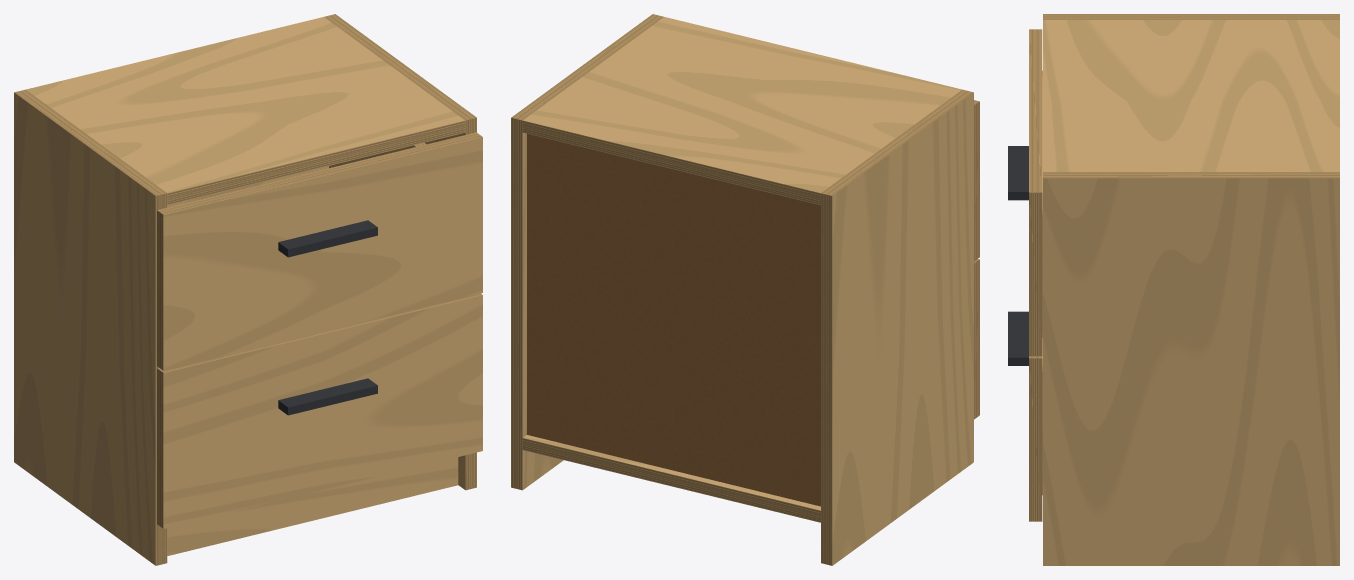
File: HIN-NST-std.glb
The picture shows the model from 3 angles, left to right: view 1: azimuth 30°, elevation 25°; view 2: azimuth 150°, elevation 25°; view 3: azimuth 270°, elevation 25°; orthographic projection. The views are drawn at different scales.
Visible parts, largest first — view 1: side-l:sheet:eyJtIjoicGx5Iiwic2lkZSI6ImZhY2UiLCJzZWVkIjoxLCJ, d1-front:sheet:eyJtIjoicGx5Iiwic2lkZSI6ImZhY2UiLCJzZWVkIjoyL, d2-front:sheet:eyJtIjoicGx5Iiwic2lkZSI6ImZhY2UiLCJzZWVkIjo2L, top:sheet:eyJtIjoicGx5Iiwic2lkZSI6ImZhY2UiLCJzZWVkIjo2LCJ2ZW, plinth:sheet:eyJtIjoicGx5Iiwic2lkZSI6ImZhY2UiLCJzZWVkIjozLCJ, top:sheet:eyJtIjoicGx5Iiwic2lkZSI6ImVkZ2UtbG9uZyIsInNlZWQiOj, pull, d2-front:sheet:eyJtIjoicGx5Iiwic2lkZSI6ImVkZ2UtbG9uZyIsInNlZ, side-r:sheet:eyJtIjoicGx5Iiwic2lkZSI6ImVkZ2UtZW5kIiwic2VlZCI, side-l:sheet:eyJtIjoicGx5Iiwic2lkZSI6ImVkZ2UtZW5kIiwic2VlZCI, side-l:sheet:eyJtIjoicGx5Iiwic2lkZSI6ImVkZ2UtbG9uZyIsInNlZWQ, d1-front:sheet:eyJtIjoicGx5Iiwic2lkZSI6ImVkZ2UtZW5kIiwic2VlZ (+3 smaller); view 2: back:sheet:eyJtIjoibWRmIiwic2lkZSI6ImZhY2UiLCJzZWVkIjo0LCJ0a, side-l:sheet:eyJtIjoicGx5Iiwic2lkZSI6ImZhY2UiLCJzZWVkIjoxLCJ, top:sheet:eyJtIjoicGx5Iiwic2lkZSI6ImZhY2UiLCJzZWVkIjo2LCJ2ZW, side-r:sheet:eyJtIjoicGx5Iiwic2lkZSI6ImVkZ2UtbG9uZyIsInNlZWQ, side-l:sheet:eyJtIjoicGx5Iiwic2lkZSI6ImVkZ2UtbG9uZyIsInNlZWQ, bottom:sheet:eyJtIjoicGx5Iiwic2lkZSI6ImVkZ2UtbG9uZyIsInNlZWQ, top:sheet:eyJtIjoicGx5Iiwic2lkZSI6ImVkZ2UtbG9uZyIsInNlZWQiOj, side-r:sheet:eyJtIjoicGx5Iiwic2lkZSI6ImZhY2UiLCJzZWVkIjozLCJ, side-l:sheet:eyJtIjoicGx5Iiwic2lkZSI6ImVkZ2UtZW5kIiwic2VlZCI, side-r:sheet:eyJtIjoicGx5Iiwic2lkZSI6ImVkZ2UtZW5kIiwic2VlZCI, bottom:sheet:eyJtIjoicGx5Iiwic2lkZSI6ImZhY2UiLCJzZWVkIjowLCJ, d1-front:sheet:eyJtIjoicGx5Iiwic2lkZSI6ImVkZ2UtZW5kIiwic2VlZ (+1 smaller); view 3: side-r:sheet:eyJtIjoicGx5Iiwic2lkZSI6ImZhY2UiLCJzZWVkIjozLCJ, top:sheet:eyJtIjoicGx5Iiwic2lkZSI6ImZhY2UiLCJzZWVkIjo2LCJ2ZW, pull, d2-front:sheet:eyJtIjoicGx5Iiwic2lkZSI6ImVkZ2UtZW5kIiwic2VlZ, d1-front:sheet:eyJtIjoicGx5Iiwic2lkZSI6ImVkZ2UtZW5kIiwic2VlZ, d2-front:sheet:eyJtIjoicGx5Iiwic2lkZSI6ImVkZ2UtbG9uZyIsInNlZ, side-r:sheet:eyJtIjoicGx5Iiwic2lkZSI6ImVkZ2UtZW5kIiwic2VlZCI, side-l:sheet:eyJtIjoicGx5Iiwic2lkZSI6ImVkZ2UtZW5kIiwic2VlZCI.
Boxes of the visible parts, x1,y1,x2,y2 form: side-l:sheet:eyJtIjoicGx5Iiwic2lkZSI6ImZhY2UiLCJzZWVkIjoxLCJ: (14, 92, 155, 565); d1-front:sheet:eyJtIjoicGx5Iiwic2lkZSI6ImZhY2UiLCJzZWVkIjoyL: (163, 295, 482, 528); d2-front:sheet:eyJtIjoicGx5Iiwic2lkZSI6ImZhY2UiLCJzZWVkIjo2L: (163, 137, 482, 370); top:sheet:eyJtIjoicGx5Iiwic2lkZSI6ImZhY2UiLCJzZWVkIjo2LCJ2ZW: (26, 17, 465, 193); plinth:sheet:eyJtIjoicGx5Iiwic2lkZSI6ImZhY2UiLCJzZWVkIjozLCJ: (167, 457, 458, 555); top:sheet:eyJtIjoicGx5Iiwic2lkZSI6ImVkZ2UtbG9uZyIsInNlZWQiOj: (167, 120, 465, 205); pull: (278, 220, 377, 415); d2-front:sheet:eyJtIjoicGx5Iiwic2lkZSI6ImVkZ2UtbG9uZyIsInNlZ: (157, 132, 482, 214); side-r:sheet:eyJtIjoicGx5Iiwic2lkZSI6ImVkZ2UtZW5kIiwic2VlZCI: (324, 14, 476, 120); side-l:sheet:eyJtIjoicGx5Iiwic2lkZSI6ImVkZ2UtZW5kIiwic2VlZCI: (14, 89, 166, 195); side-l:sheet:eyJtIjoicGx5Iiwic2lkZSI6ImVkZ2UtbG9uZyIsInNlZWQ: (155, 193, 167, 565); d1-front:sheet:eyJtIjoicGx5Iiwic2lkZSI6ImVkZ2UtZW5kIiwic2VlZ: (157, 368, 163, 528); back:sheet:eyJtIjoibWRmIiwic2lkZSI6ImZhY2UiLCJzZWVkIjo0LCJ0a: (527, 133, 820, 506); side-l:sheet:eyJtIjoicGx5Iiwic2lkZSI6ImZhY2UiLCJzZWVkIjoxLCJ: (832, 93, 973, 565); top:sheet:eyJtIjoicGx5Iiwic2lkZSI6ImZhY2UiLCJzZWVkIjo2LCJ2ZW: (523, 17, 962, 193); side-r:sheet:eyJtIjoicGx5Iiwic2lkZSI6ImVkZ2UtbG9uZyIsInNlZWQ: (511, 117, 522, 490); side-l:sheet:eyJtIjoicGx5Iiwic2lkZSI6ImVkZ2UtbG9uZyIsInNlZWQ: (821, 193, 832, 565); bottom:sheet:eyJtIjoicGx5Iiwic2lkZSI6ImVkZ2UtbG9uZyIsInNlZWQ: (522, 438, 820, 522); top:sheet:eyJtIjoicGx5Iiwic2lkZSI6ImVkZ2UtbG9uZyIsInNlZWQiOj: (522, 120, 820, 205); side-r:sheet:eyJtIjoicGx5Iiwic2lkZSI6ImZhY2UiLCJzZWVkIjozLCJ: (522, 133, 563, 489); side-l:sheet:eyJtIjoicGx5Iiwic2lkZSI6ImVkZ2UtZW5kIiwic2VlZCI: (821, 89, 973, 195); side-r:sheet:eyJtIjoicGx5Iiwic2lkZSI6ImVkZ2UtZW5kIiwic2VlZCI: (511, 14, 663, 120); bottom:sheet:eyJtIjoicGx5Iiwic2lkZSI6ImZhY2UiLCJzZWVkIjowLCJ: (523, 435, 820, 510); d1-front:sheet:eyJtIjoicGx5Iiwic2lkZSI6ImVkZ2UtZW5kIiwic2VlZ: (974, 259, 979, 419); side-r:sheet:eyJtIjoicGx5Iiwic2lkZSI6ImZhY2UiLCJzZWVkIjozLCJ: (1043, 178, 1339, 565); top:sheet:eyJtIjoicGx5Iiwic2lkZSI6ImZhY2UiLCJzZWVkIjo2LCJ2ZW: (1043, 20, 1339, 172); pull: (1008, 146, 1028, 365); d2-front:sheet:eyJtIjoicGx5Iiwic2lkZSI6ImVkZ2UtZW5kIiwic2VlZ: (1029, 192, 1042, 356); d1-front:sheet:eyJtIjoicGx5Iiwic2lkZSI6ImVkZ2UtZW5kIiwic2VlZ: (1029, 358, 1042, 521); d2-front:sheet:eyJtIjoicGx5Iiwic2lkZSI6ImVkZ2UtbG9uZyIsInNlZ: (1029, 29, 1042, 192); side-r:sheet:eyJtIjoicGx5Iiwic2lkZSI6ImVkZ2UtZW5kIiwic2VlZCI: (1043, 172, 1339, 178); side-l:sheet:eyJtIjoicGx5Iiwic2lkZSI6ImVkZ2UtZW5kIiwic2VlZCI: (1043, 14, 1339, 19).
Size of the model in its own units: 0.5 by 0.55 by 0.4267.
55 materials, 54 textured.
